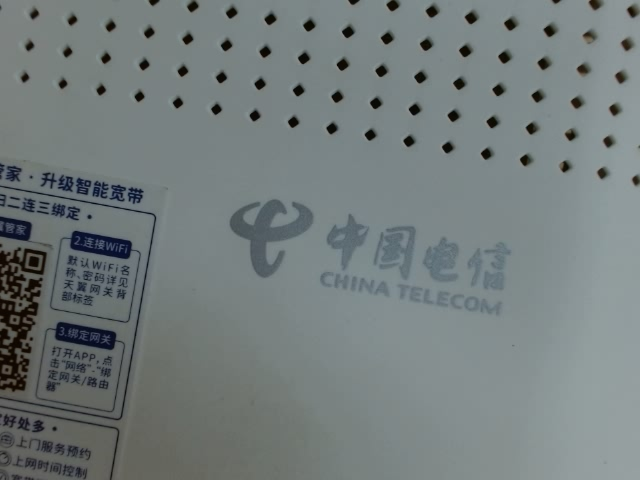ChinaTelecom1: (200, 183, 525, 321)
